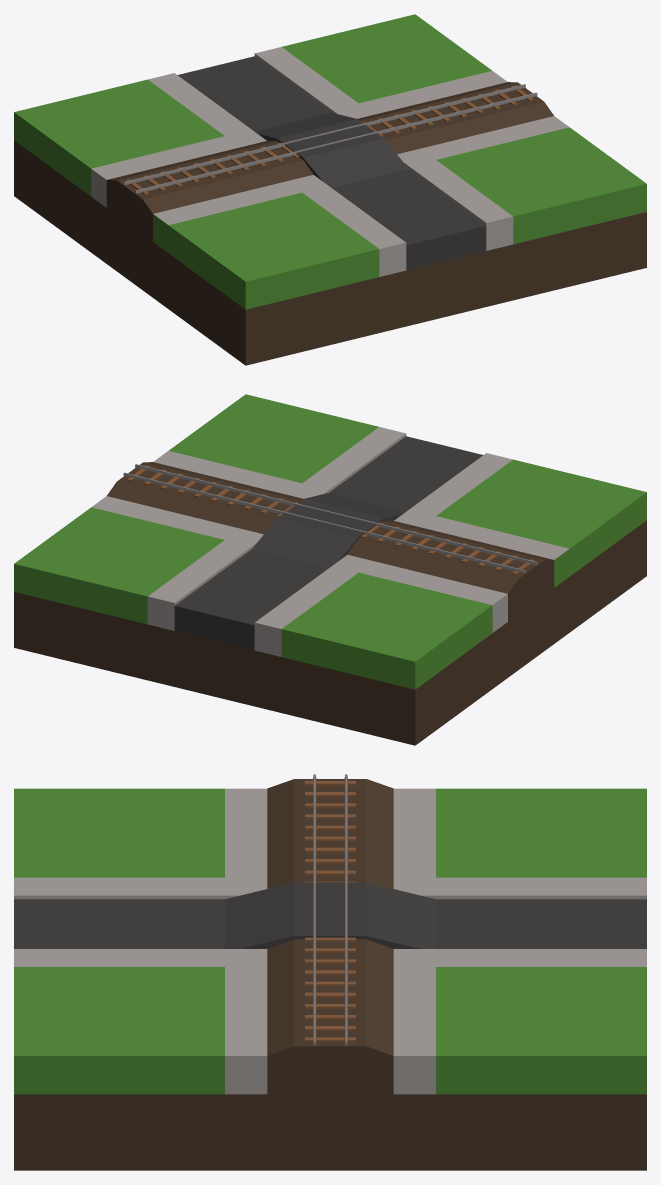
File: tile-rail-road-crossing.glb
3 views of the same model, one above another, from view 1: azimuth 30°, elevation 25°; view 2: azimuth 150°, elevation 25°; view 3: azimuth 270°, elevation 25° (orthographic). The views are drawn at different scales.
Parts seen in each view (by area): view 1: tile-rail-road-crossing; view 2: tile-rail-road-crossing; view 3: tile-rail-road-crossing.
Boxes of the visible parts, bbox=[...] form: tile-rail-road-crossing: bbox=[14, 14, 646, 365]; tile-rail-road-crossing: bbox=[14, 394, 646, 745]; tile-rail-road-crossing: bbox=[14, 774, 646, 1170].
Size of the model in its own units: 30 by 6.75 by 30.
Materials: 1 (1 with a texture image).
